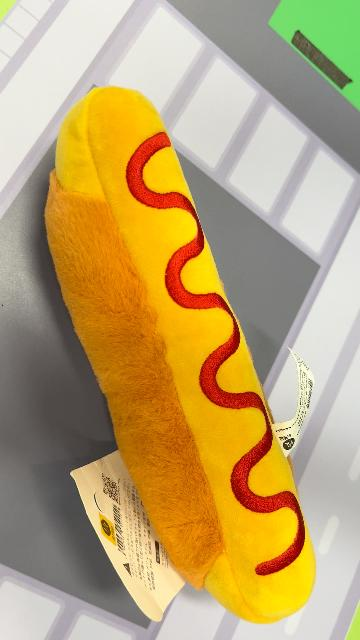hotdog: (44, 84, 318, 626)
